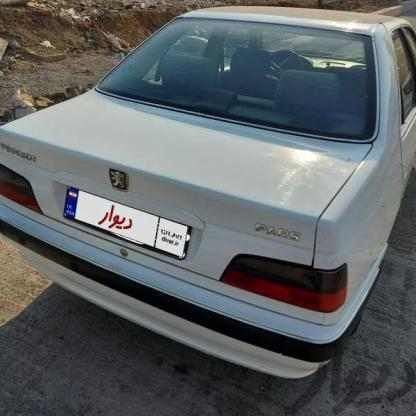Car: (0, 0, 416, 413)
